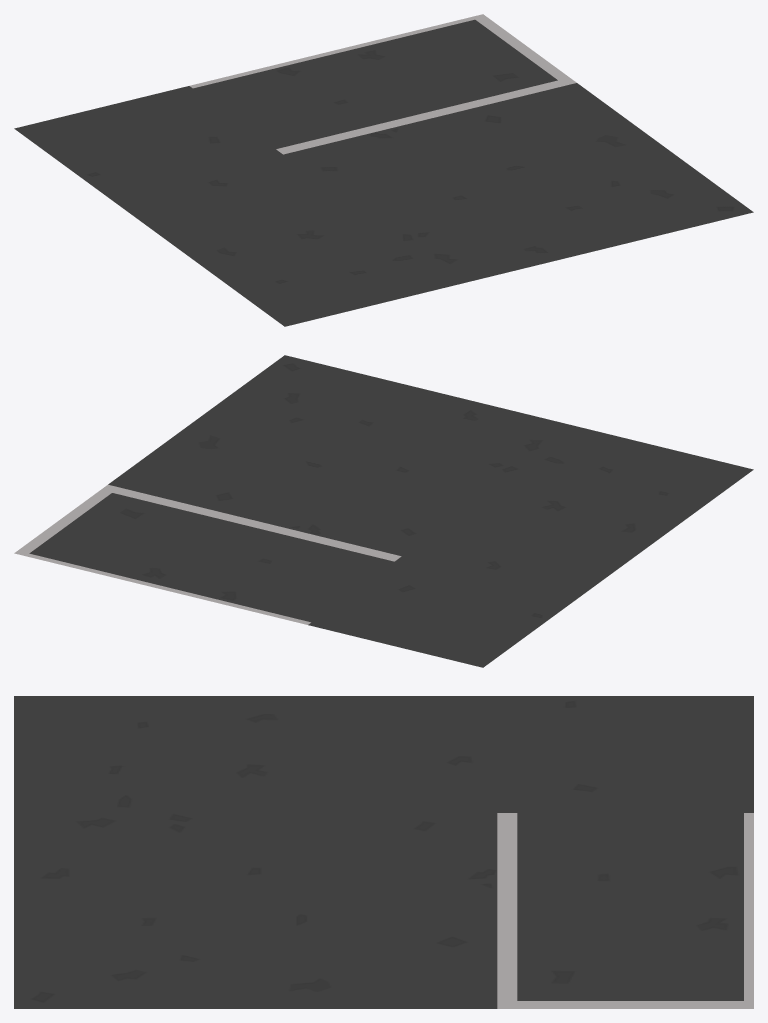
Rendered from SM_Gen_Env_Road_Parking_04.glb.
The picture shows the model from 3 angles, top to bottom: view 1: azimuth 30°, elevation 25°; view 2: azimuth 150°, elevation 25°; view 3: azimuth 270°, elevation 25°; orthographic projection. The views are drawn at different scales.
Visible parts, largest first — view 1: SM_Gen_Env_Road_Parking_042; view 2: SM_Gen_Env_Road_Parking_042; view 3: SM_Gen_Env_Road_Parking_042.
Part boxes in pixels (x1,y1,x2,y2): SM_Gen_Env_Road_Parking_042: (14,14,753,326); SM_Gen_Env_Road_Parking_042: (14,355,753,667); SM_Gen_Env_Road_Parking_042: (14,696,753,1008).
Size of the model in its own units: 10 by 0 by 10.
Materials: 1 (1 with a texture image).
